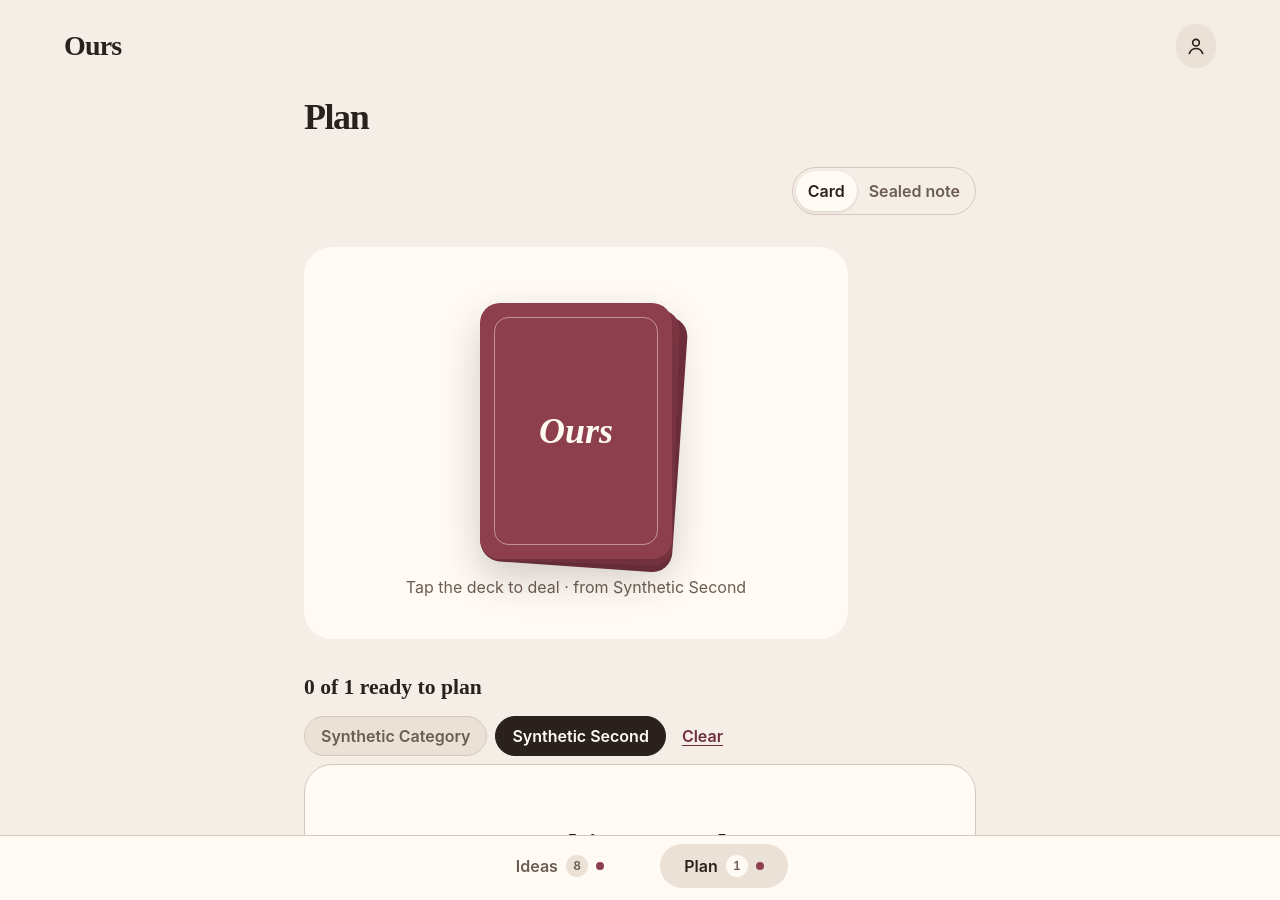
Test: Plan tab › one pill row filters both the deck and the agreed list, with no Refine
Expected: the heading "Nothing matches" is shown, [513, 828, 767, 867]
Expected: the heading "0 of 1 ready to plan" is shown, [304, 675, 482, 699]
Click the button with aria-label "Clear filters": point(702, 736) [674, 716, 731, 756]
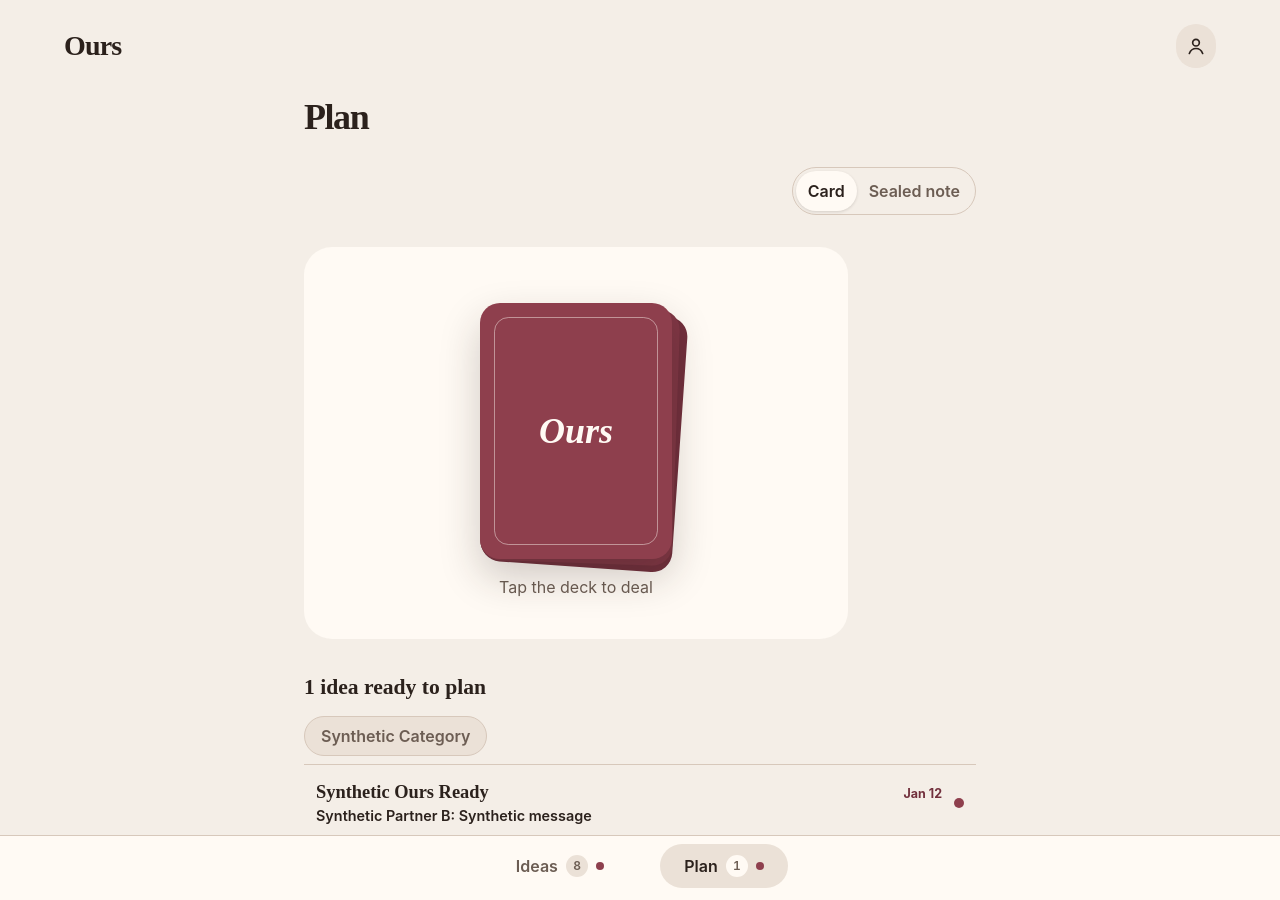
Expected: the link "Synthetic Ours Ready" is shown, [316, 782, 964, 824]
Click the button "Synthetic Category": point(396, 736) [304, 716, 487, 756]
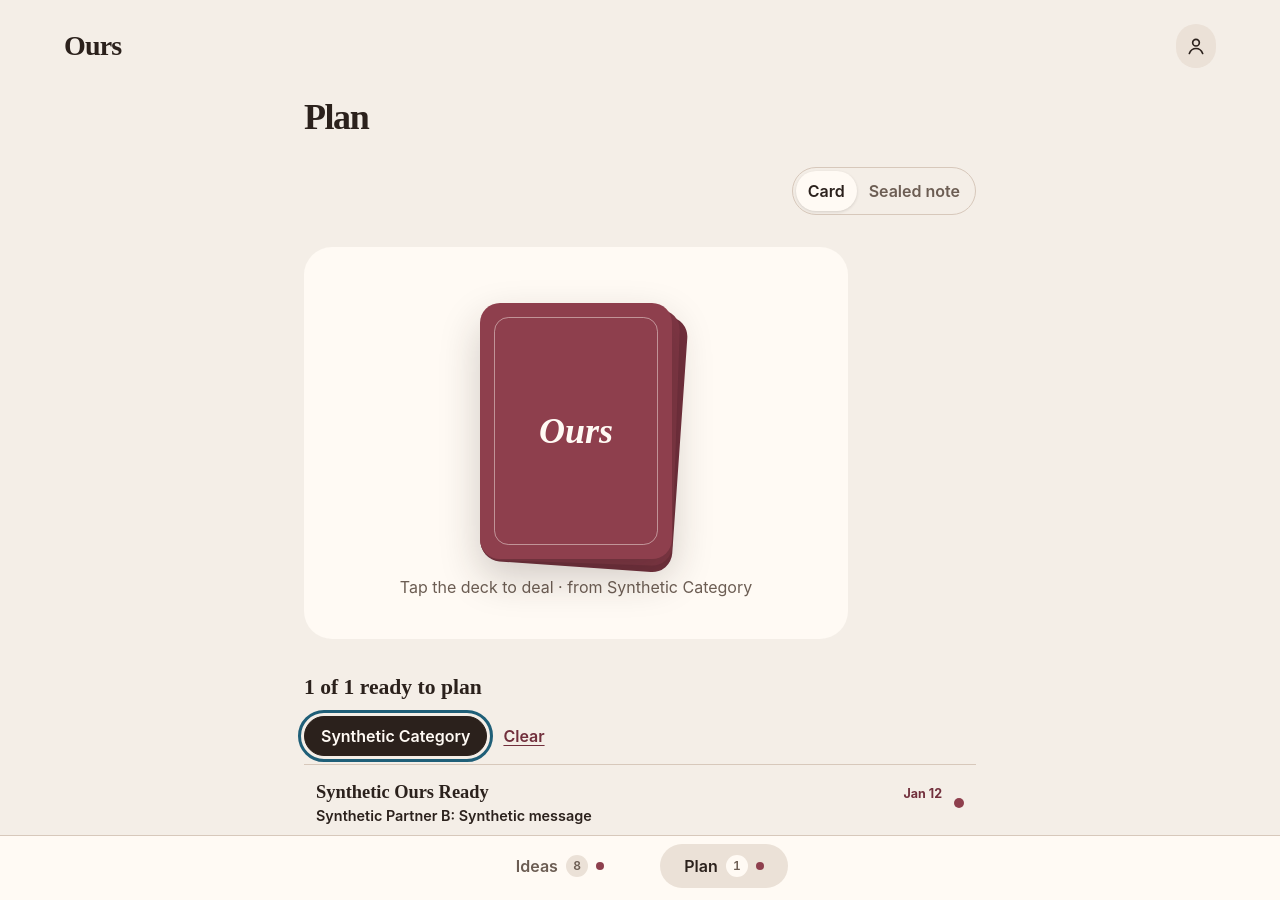
Click the button with aria-label "Deal a card": point(576, 431) [480, 303, 672, 559]
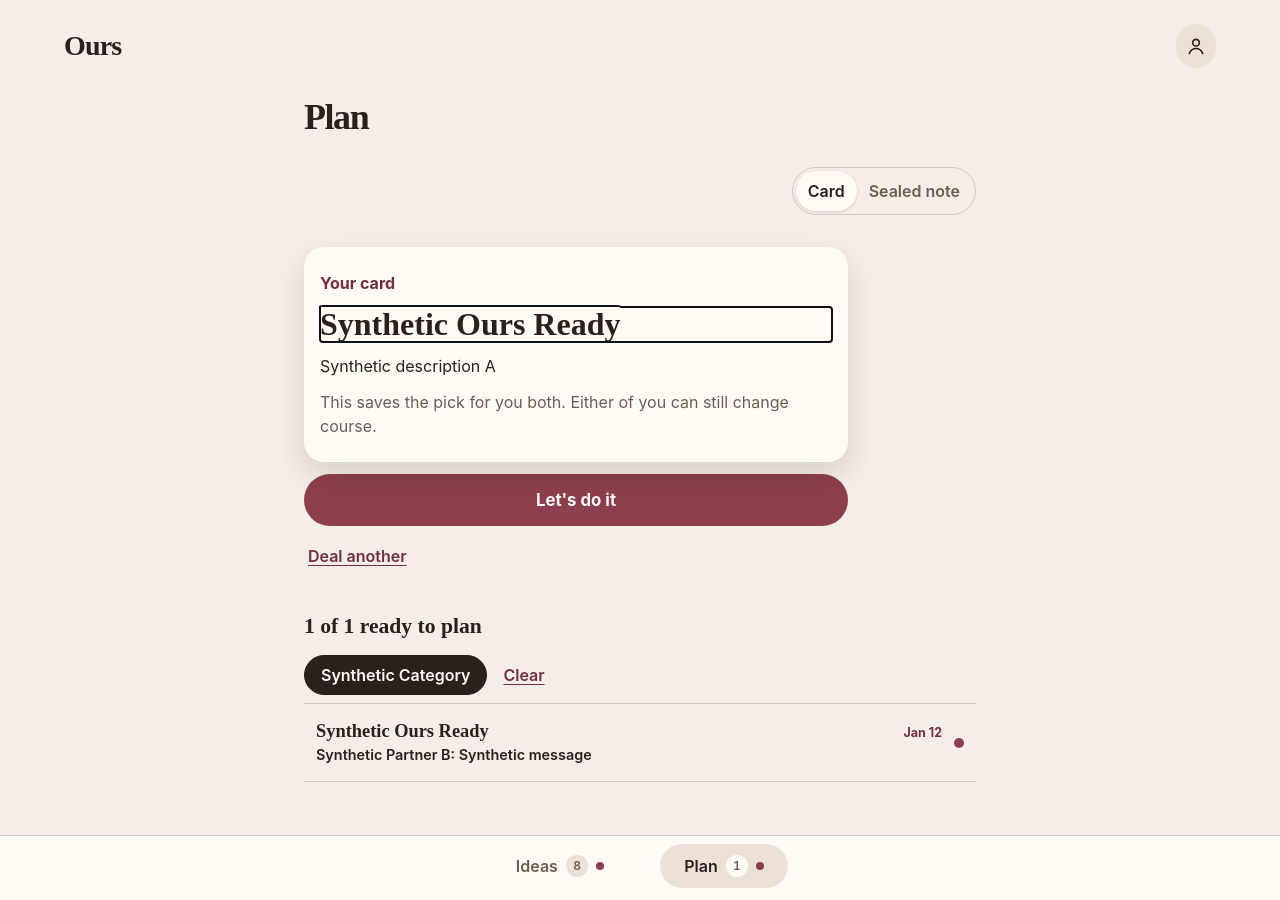
Expected: the heading "Synthetic Ours Ready" is shown, [320, 306, 620, 342]
